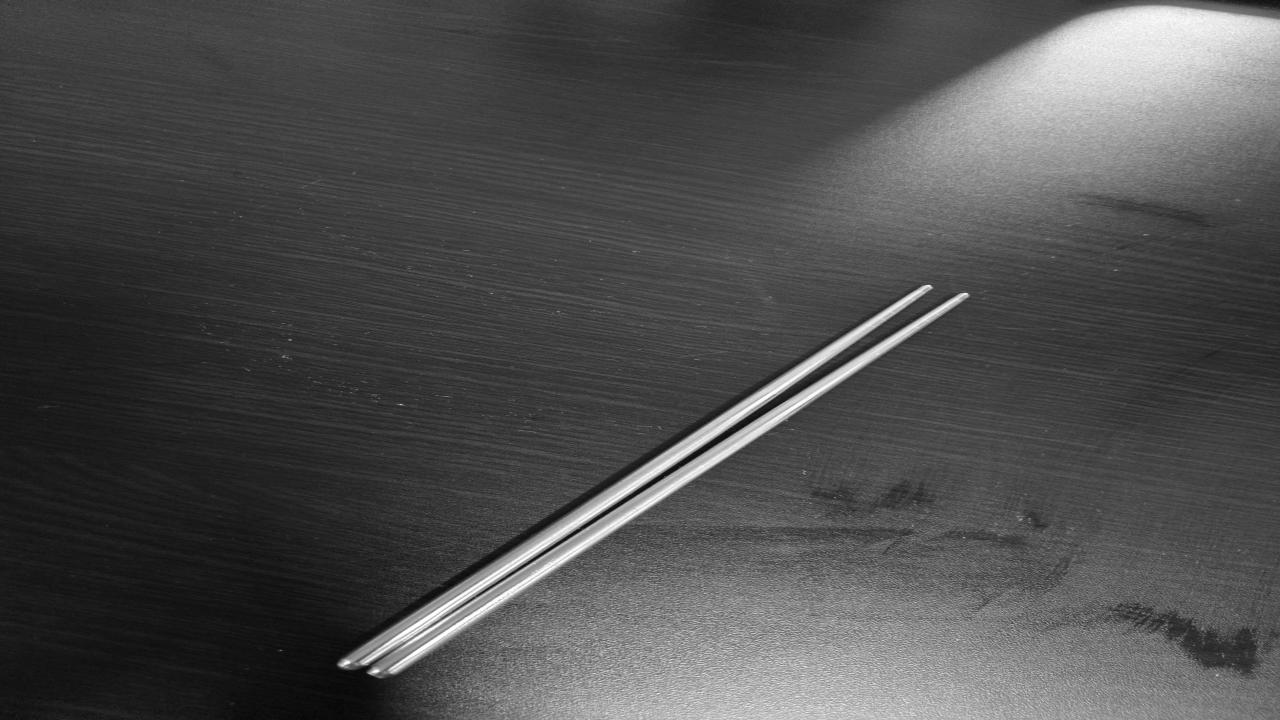chopstick: (323, 281, 979, 684)
